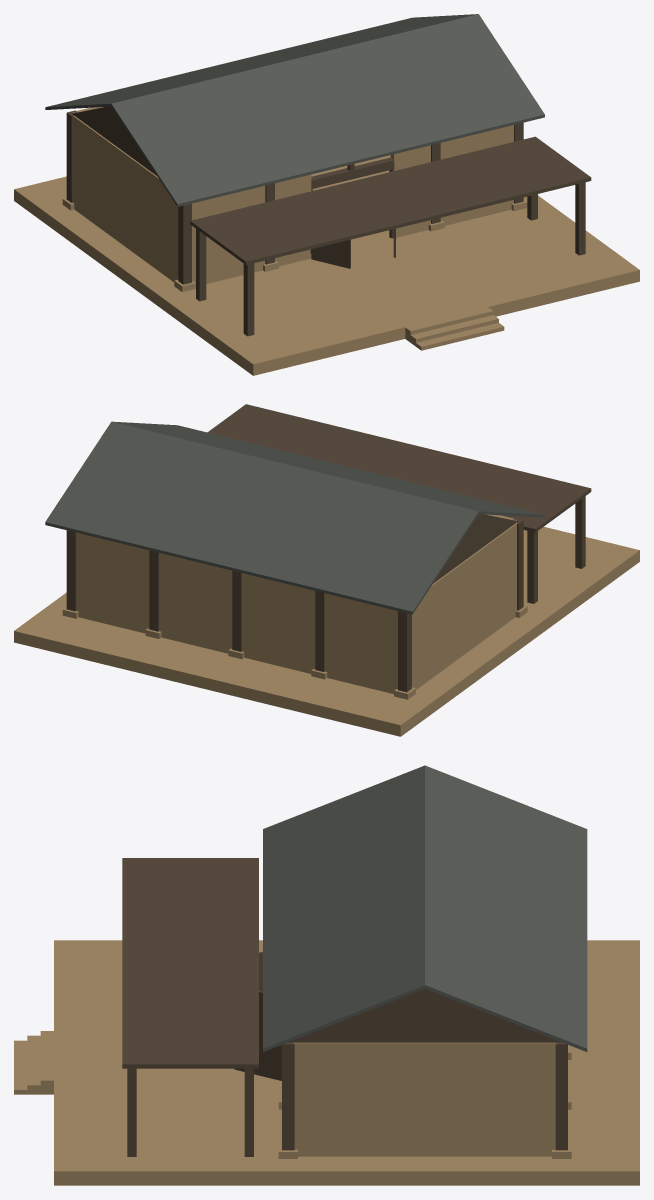
Rendered from wuku-A-LOD2.glb.
3 views of the same model, one above another, from view 1: azimuth 30°, elevation 25°; view 2: azimuth 150°, elevation 25°; view 3: azimuth 270°, elevation 25° (orthographic). The views are drawn at different scales.
Visible parts, largest first — view 1: wuku-A-static_earth, wuku-A-static_tile, wuku-A-static_timber; view 2: wuku-A-static_earth, wuku-A-static_tile, wuku-A-static_timber; view 3: wuku-A-static_earth, wuku-A-static_tile, wuku-A-static_timber.
Part boxes in pixels (x1,y1,x2,y2): wuku-A-static_earth: (14,107,639,375); wuku-A-static_tile: (45,14,544,206); wuku-A-static_timber: (66,106,591,336); wuku-A-static_earth: (14,514,639,736); wuku-A-static_tile: (45,421,544,614); wuku-A-static_timber: (66,404,591,692); wuku-A-static_earth: (14,940,639,1185); wuku-A-static_tile: (263,765,587,1051); wuku-A-static_timber: (122,858,567,1156).
Size of the model in its own units: 14 by 5.5 by 16.02.
